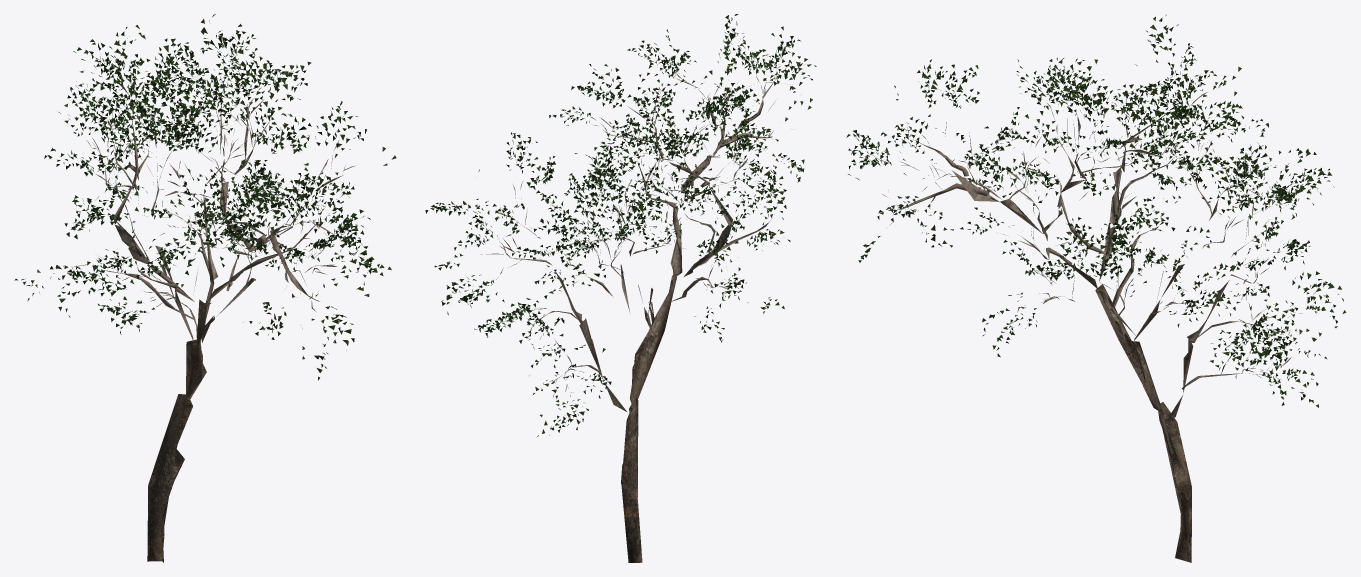
Rendered from tree-review.glb.
3 renders of one model, left to right at view 1: azimuth 30°, elevation 25°; view 2: azimuth 150°, elevation 25°; view 3: azimuth 270°, elevation 25°, orthographic. The views are drawn at different scales.
Parts seen in each view (by area): view 1: tree_small_02_LOD1.002, tree_small_02_LOD1, tree_small_02_LOD1.001; view 2: tree_small_02_LOD1.002, tree_small_02_LOD1, tree_small_02_LOD1.001; view 3: tree_small_02_LOD1.002, tree_small_02_LOD1, tree_small_02_LOD1.001.
Part boxes in pixels (bbox=[...]): tree_small_02_LOD1.002: bbox=[14, 14, 396, 380]; tree_small_02_LOD1: bbox=[111, 164, 292, 562]; tree_small_02_LOD1.001: bbox=[72, 76, 355, 348]; tree_small_02_LOD1.002: bbox=[425, 14, 816, 436]; tree_small_02_LOD1: bbox=[555, 123, 750, 562]; tree_small_02_LOD1.001: bbox=[480, 60, 793, 397]; tree_small_02_LOD1.002: bbox=[846, 14, 1346, 407]; tree_small_02_LOD1: bbox=[952, 126, 1229, 562]; tree_small_02_LOD1.001: bbox=[872, 84, 1308, 389].
Bounding box in the file's own units: 2.88 × 4.55 × 4.07.
3 materials, 3 textured.
